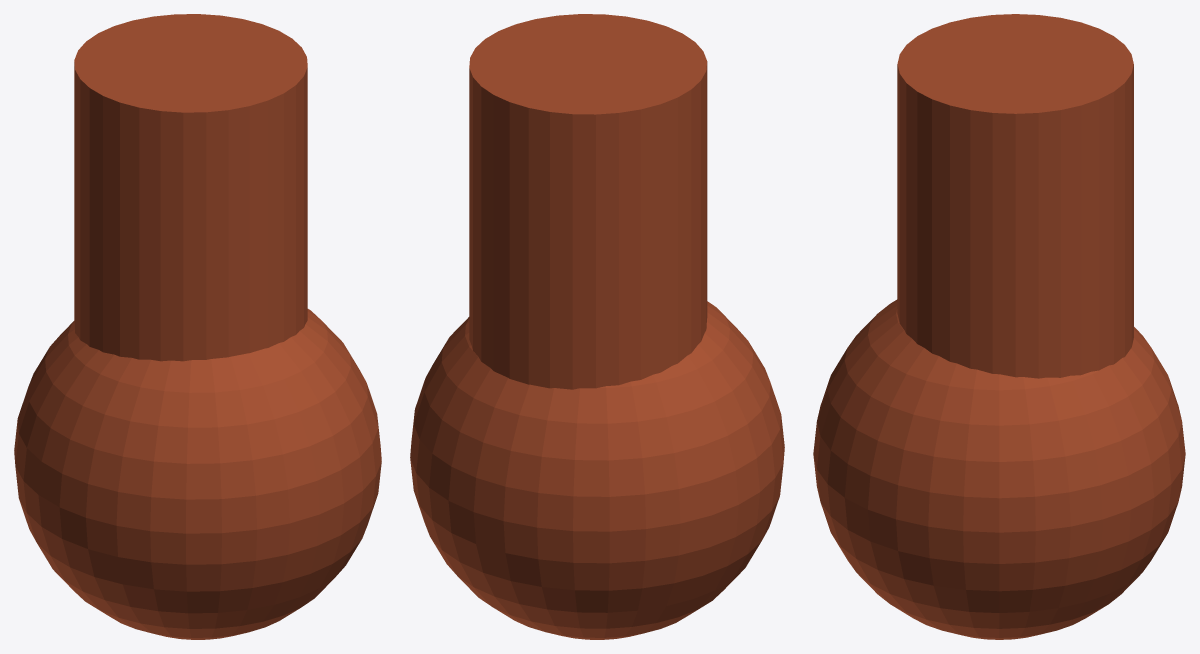
Rendered from nose.obj.
The picture shows the model from 3 angles, left to right: view 1: azimuth 30°, elevation 25°; view 2: azimuth 150°, elevation 25°; view 3: azimuth 270°, elevation 25°; orthographic projection.
Visible parts, largest first — view 1: Sphere.003; view 2: Sphere.003; view 3: Sphere.003.
Boxes of the visible parts, x1,y1,x2,y2 form: Sphere.003: [14, 14, 381, 639]; Sphere.003: [410, 14, 784, 639]; Sphere.003: [813, 14, 1185, 639].
Bounding box in the file's own units: 0.1927 × 0.3194 × 0.1927.
